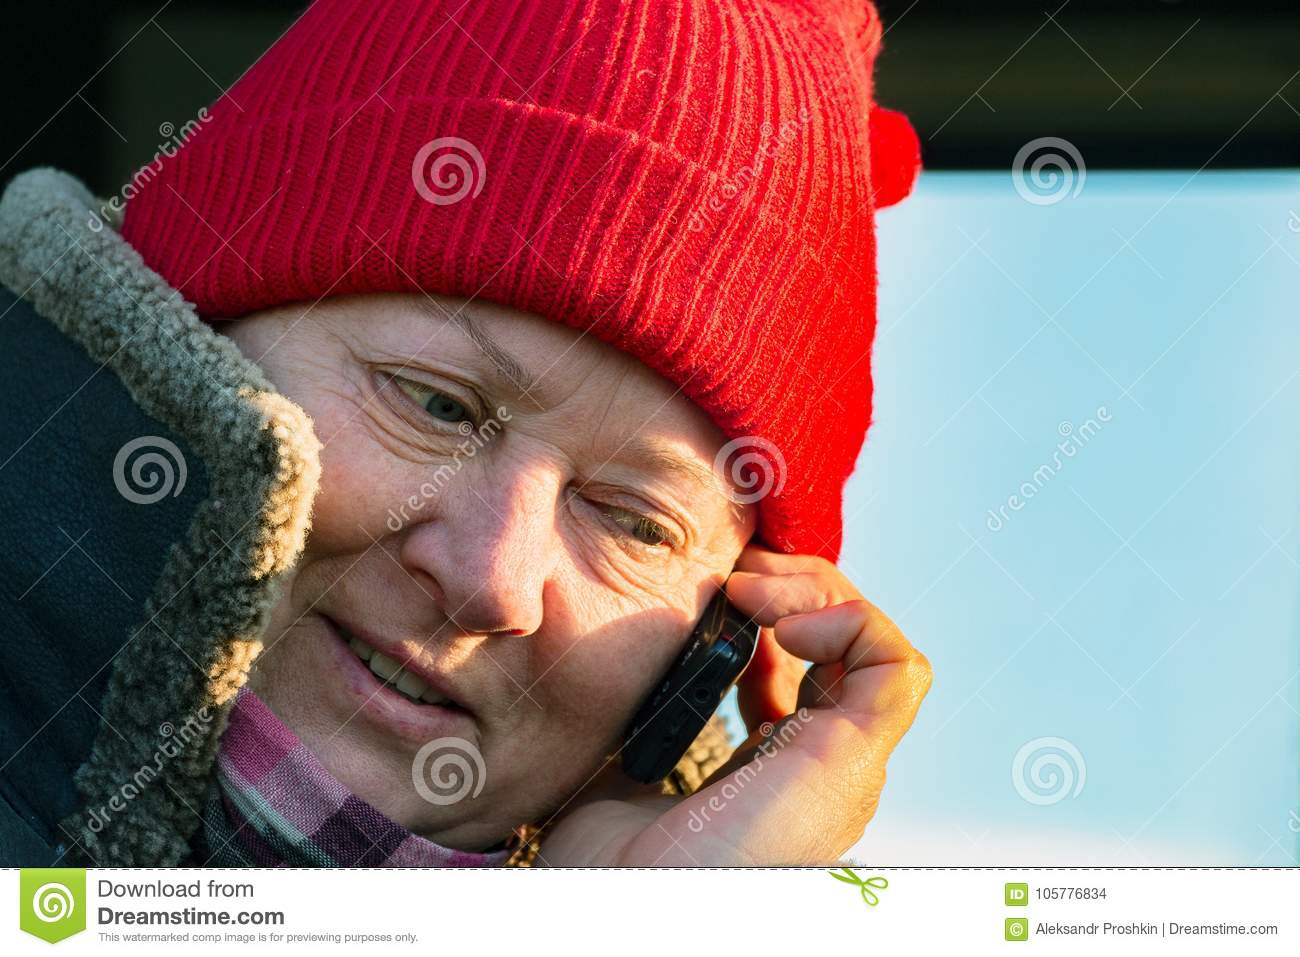phone: (621, 537, 773, 786)
talk: (304, 287, 930, 869)
